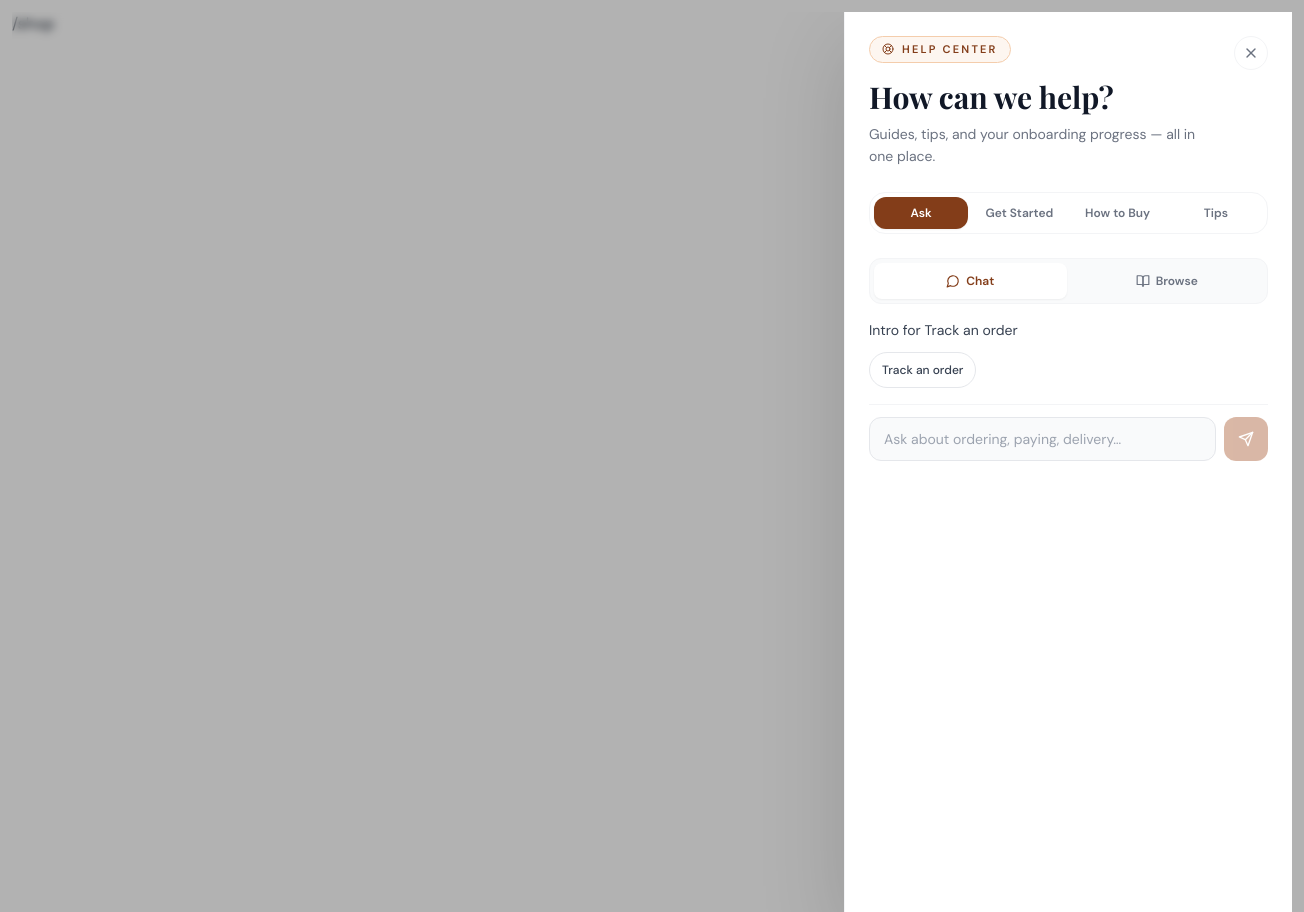
Test: Help Center — Ask tab › shows a visitor why something needs an account
Type "cancel my order" into the field named "Your question". click: (1042, 439)
box: 869,417 -> 1216,461
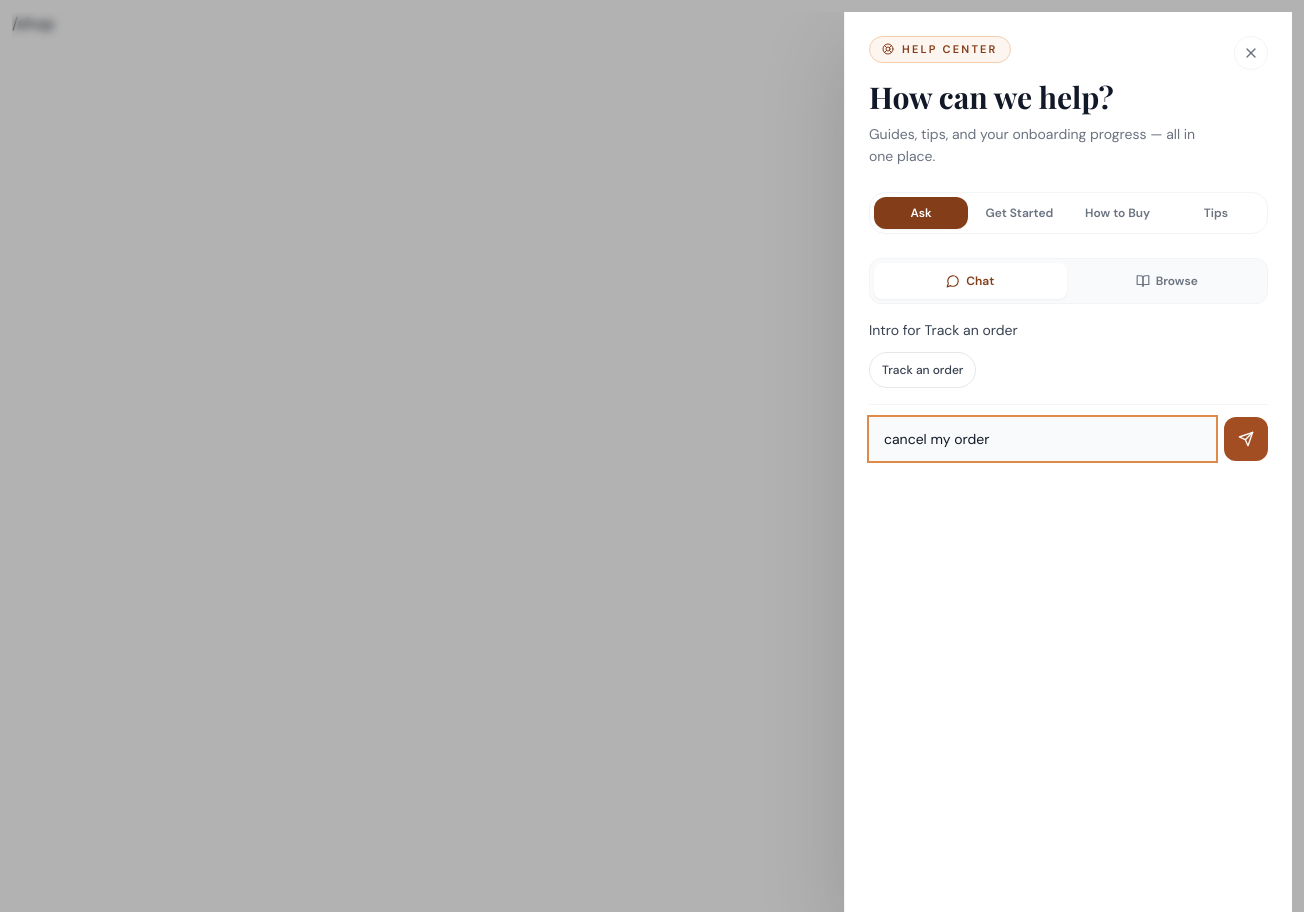
Click the button named "Send question". click: (1246, 439)
box: 1224,417 -> 1268,461
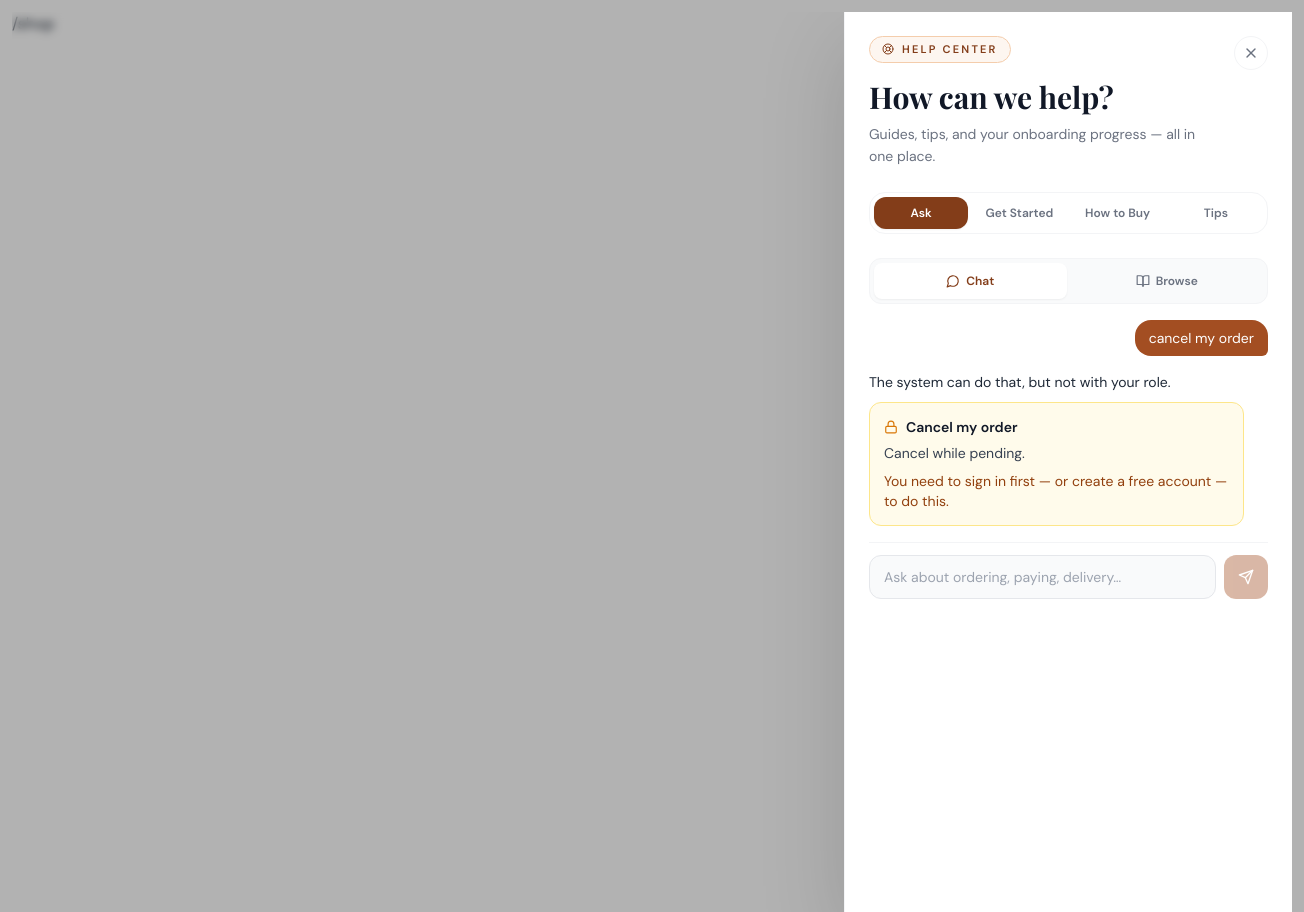
Expected: the text "You need to sign in first" is shown, 884,472 -> 1227,510
